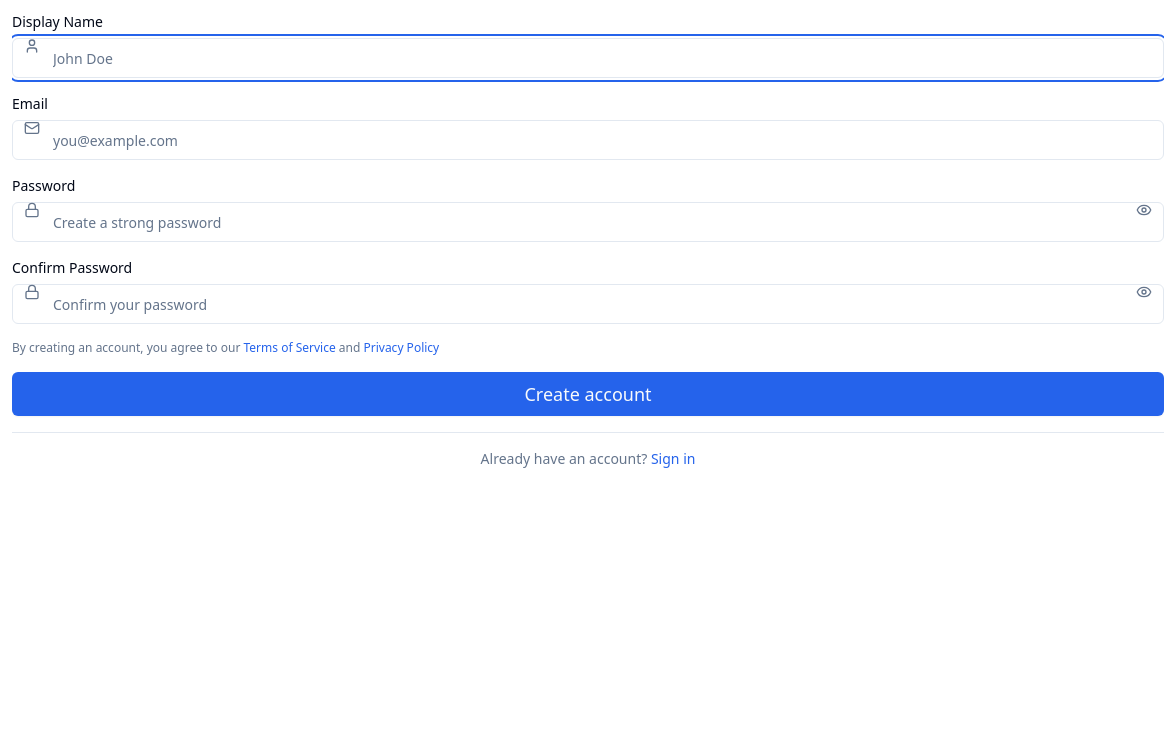
Test: RegisterForm › Form Validation › should show error when display name is too short
Type "J" into the field labelled "Display Name".
click(588, 58); type("J")  # box [12,38,1164,78]
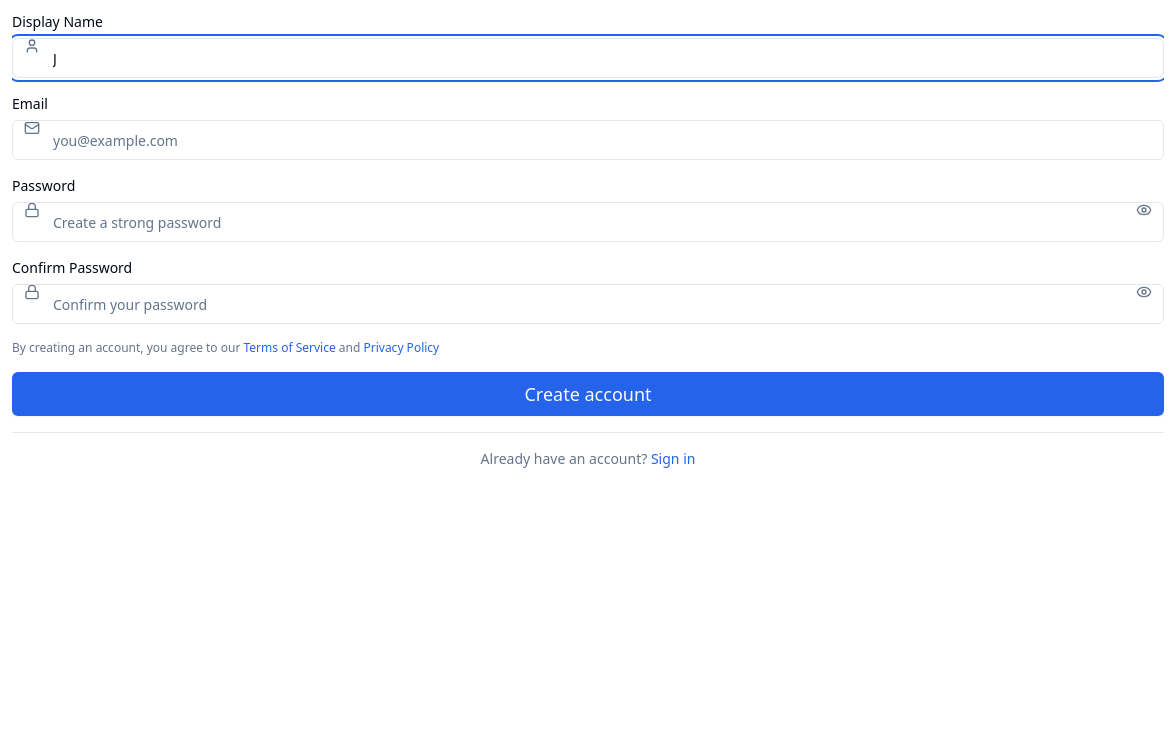
Click the button "Create account".
click(588, 394)  # box [12,372,1164,416]
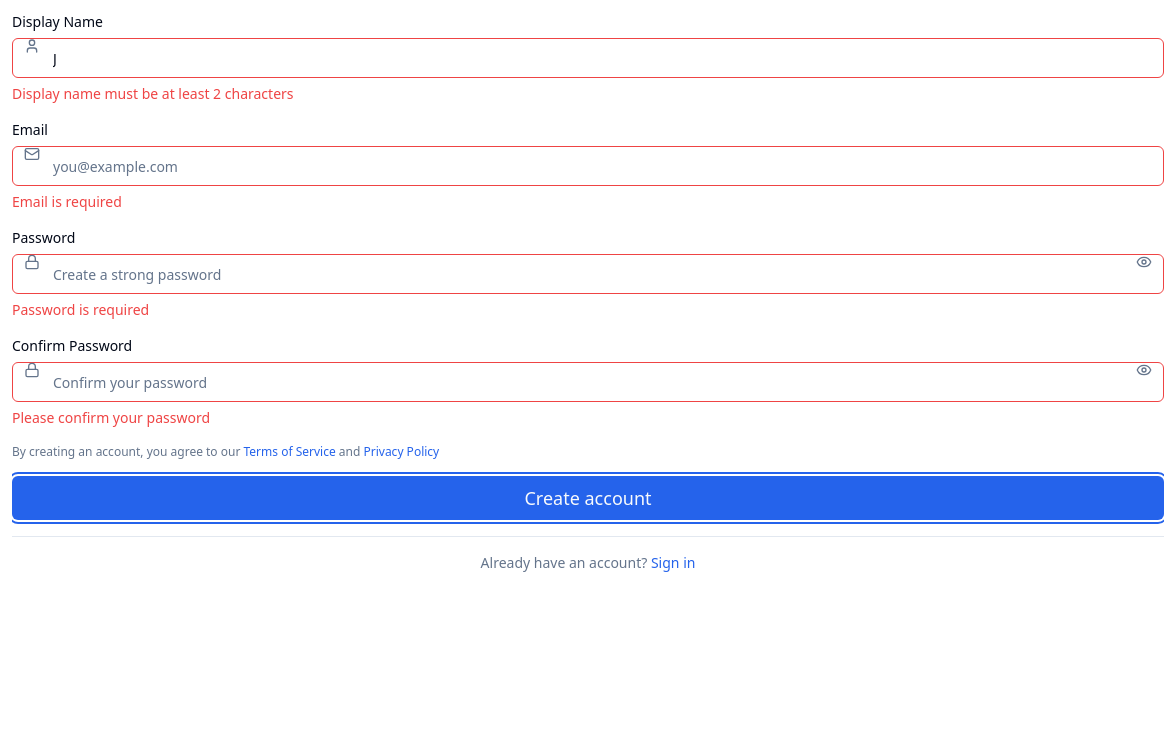
Now the text "Display name must be at least 2 characters" is shown, box [12,84,294,103]
